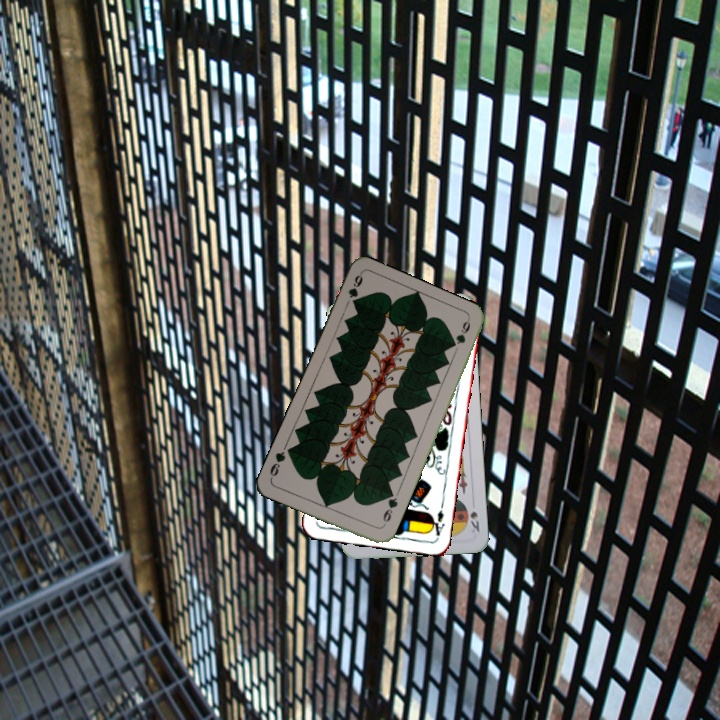EA: (426, 506, 447, 540)
G9: (378, 489, 400, 530), (344, 270, 365, 309)
SK: (466, 507, 482, 535)
